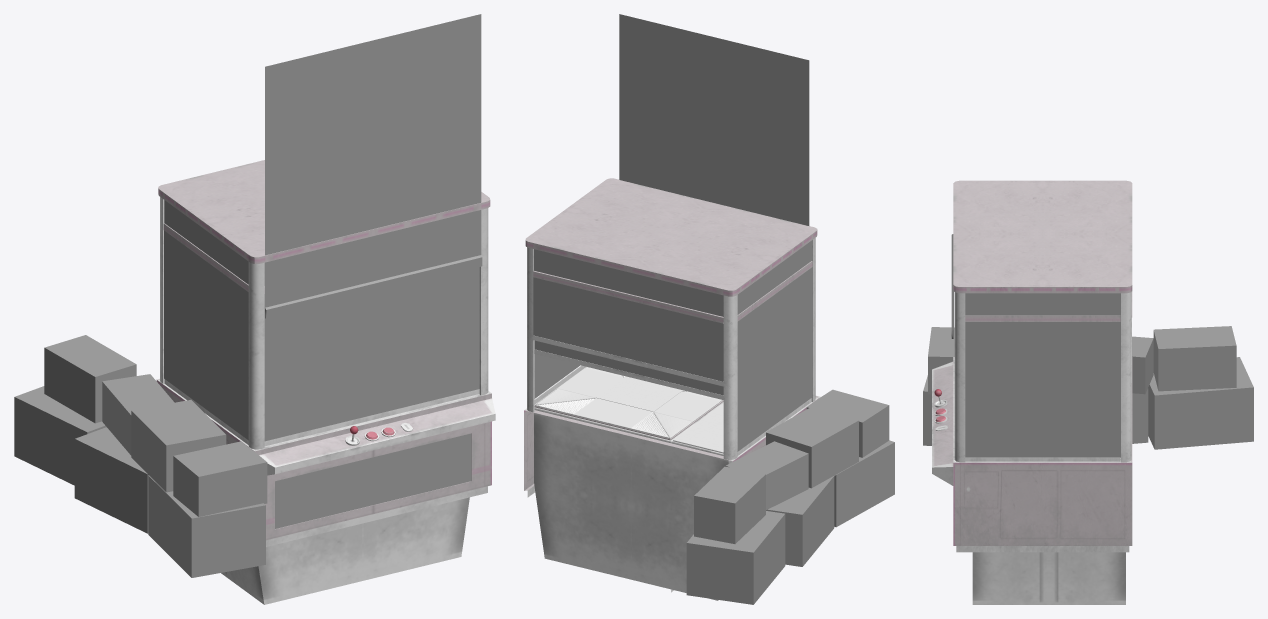
Rendered from creangame_04.fbx.
3 renders of one model, left to right at view 1: azimuth 30°, elevation 25°; view 2: azimuth 150°, elevation 25°; view 3: azimuth 270°, elevation 25°, orthographic. The views are drawn at different scales.
Parts seen in each view (by area): view 1: Game_shutter01, Game_glass01, Game_base01, cardbord_01; view 2: Game_base01, Game_shutter01, Game_glass01, cardbord_01, Game_convayor_01, Game_rotate_01, Game_roller_01, Game_output01, Game_mataina_01; view 3: Game_base01, Game_glass01, cardbord_01.
Boxes of the visible parts, x1,y1,x2,y2 form: Game_shutter01: (265, 14, 482, 318); Game_glass01: (164, 200, 479, 528); Game_base01: (156, 160, 495, 604); cardbord_01: (14, 335, 267, 577); Game_base01: (524, 178, 820, 600); Game_shutter01: (619, 14, 809, 225); Game_glass01: (533, 240, 811, 451); cardbord_01: (686, 389, 894, 604); Game_convayor_01: (558, 368, 719, 428); Game_rotate_01: (535, 367, 722, 438); Game_roller_01: (537, 367, 721, 437); Game_output01: (671, 403, 723, 592); Game_mataina_01: (534, 400, 723, 442); Game_base01: (932, 180, 1132, 604); Game_glass01: (965, 293, 1120, 457); cardbord_01: (923, 326, 1253, 449).
Size of the model in its own units: 206 by 338 by 202.
5 materials, 2 textured.
